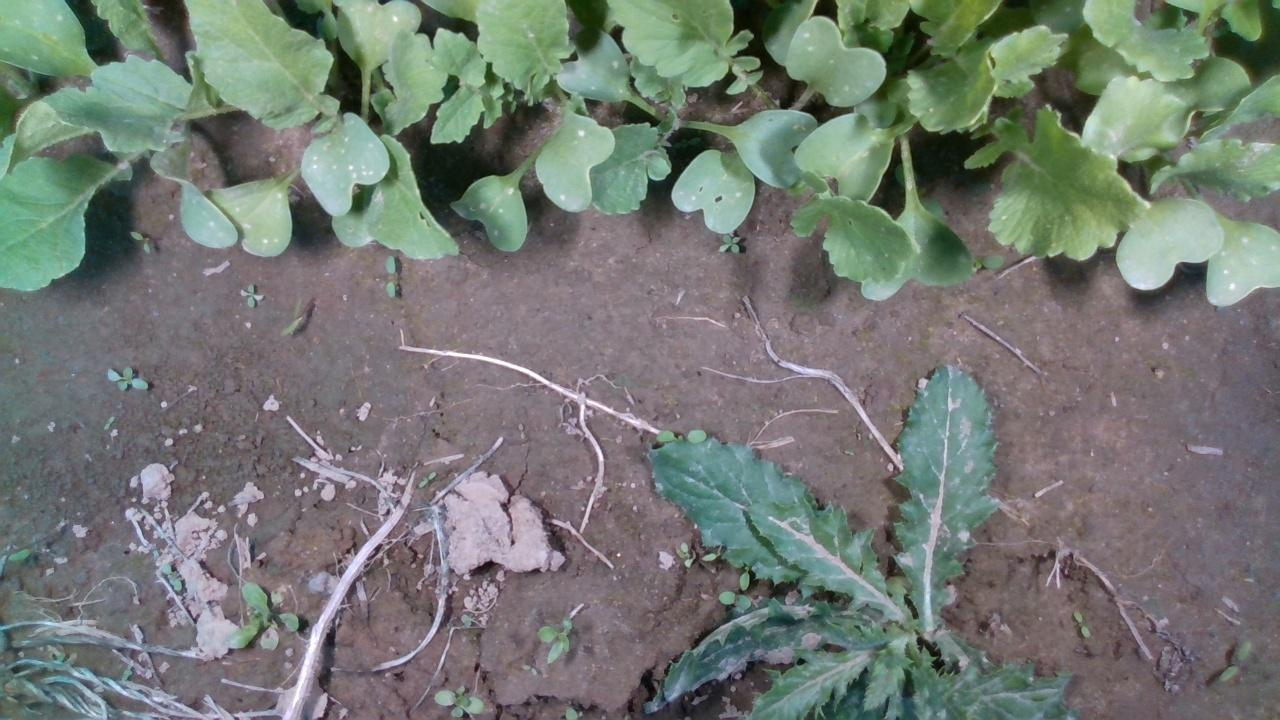weed: (533, 612, 573, 665), (432, 682, 483, 718), (1217, 638, 1251, 682), (106, 364, 148, 390), (237, 281, 265, 308), (383, 254, 396, 300), (127, 228, 149, 254), (716, 232, 743, 253), (1072, 609, 1090, 638)
